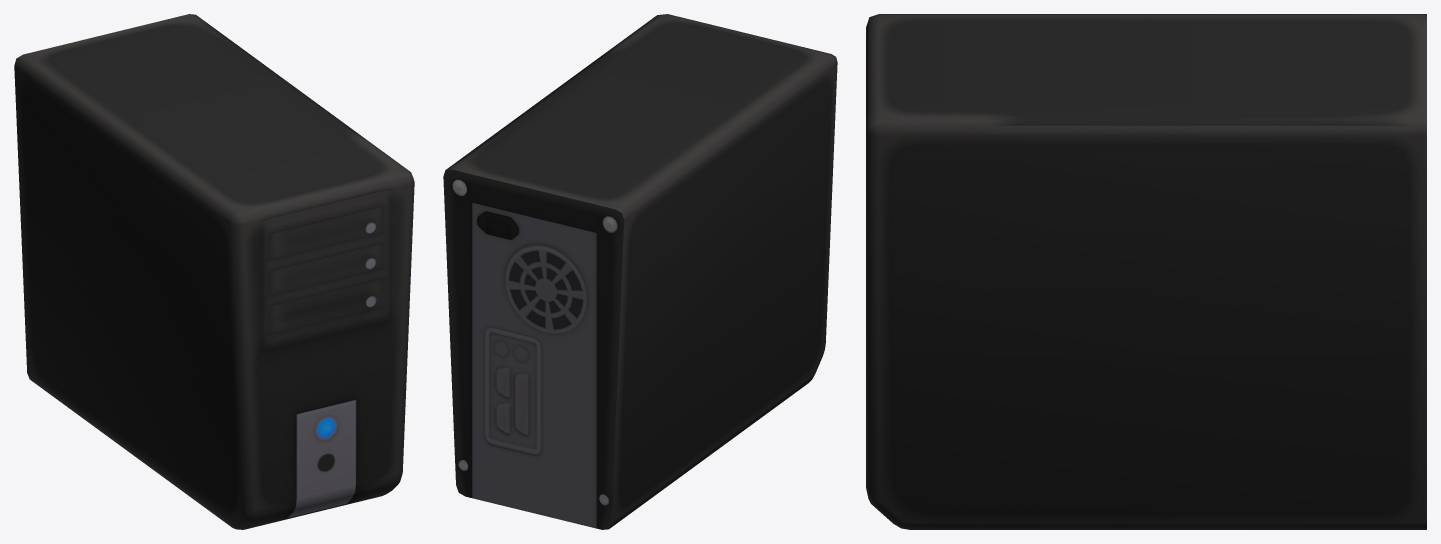
Rendered from OfficeComputer01_3.FBX.
The picture shows the model from 3 angles, left to right: view 1: azimuth 30°, elevation 25°; view 2: azimuth 150°, elevation 25°; view 3: azimuth 270°, elevation 25°; orthographic projection. The views are drawn at different scales.
Visible parts, largest first — view 1: OfficeComputer01_3; view 2: OfficeComputer01_3; view 3: OfficeComputer01_3.
Boxes of the visible parts, bbox=[...] form: OfficeComputer01_3: bbox=[14, 14, 414, 529]; OfficeComputer01_3: bbox=[443, 14, 837, 529]; OfficeComputer01_3: bbox=[866, 14, 1426, 529].
Size of what is drawn, in the model's own units: 0.2863 by 0.49 by 0.595.
